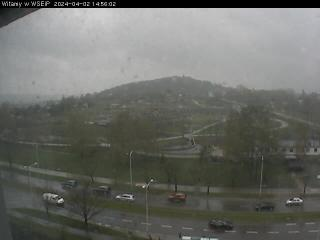car: (207, 217, 233, 229), (42, 192, 64, 205), (114, 192, 137, 204), (253, 200, 275, 212), (166, 192, 186, 202), (285, 196, 304, 206), (92, 184, 110, 194), (61, 178, 76, 188)
